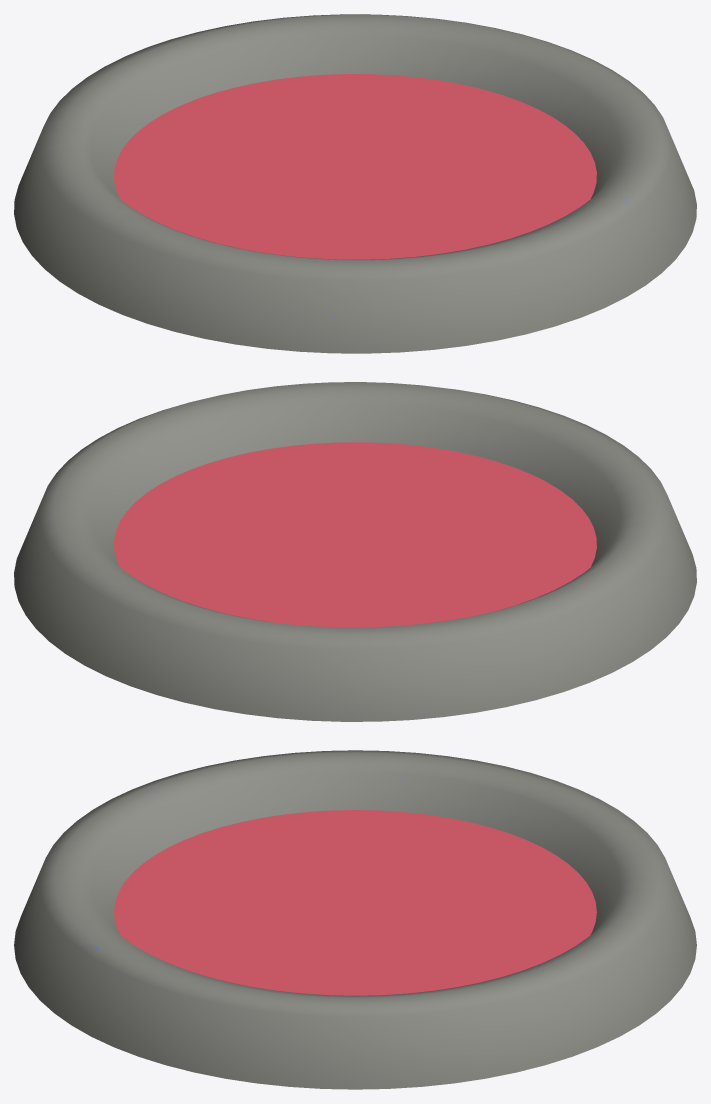
Rendered from Asset_podest_unit_player_V2.fbx.
3 views of the same model, one above another, from view 1: azimuth 30°, elevation 25°; view 2: azimuth 150°, elevation 25°; view 3: azimuth 270°, elevation 25° (orthographic).
Visible parts, largest first — view 1: Cylinder, PodestColor; view 2: Cylinder, PodestColor; view 3: Cylinder, PodestColor.
Boxes of the visible parts, bbox=[...] form: Cylinder: bbox=[14, 14, 696, 353]; PodestColor: bbox=[114, 74, 596, 259]; Cylinder: bbox=[14, 382, 696, 721]; PodestColor: bbox=[114, 442, 596, 627]; Cylinder: bbox=[14, 750, 696, 1089]; PodestColor: bbox=[114, 810, 596, 995].
Bounding box in the file's own units: 2 × 0.219 × 2.
